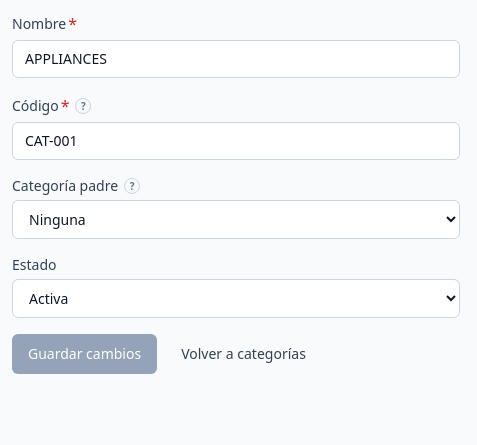
it: CategoryForm › edit: shows the stored code, is editable, and Save stays disabled until a field changes
This screenshot has width=477, height=445.
Expected: the button "Guardar cambios" is disabled, [12,334,157,374]
Step 1. Replace the text in the field labelled "Código" with "ELECTRO" → (236,141), box [12,122,460,160]
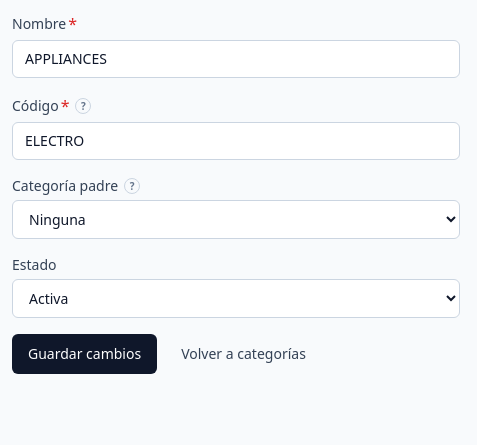
Now the button "Guardar cambios" is enabled
Step 2. Click the button "Guardar cambios" → (85,354), box [12,334,157,374]
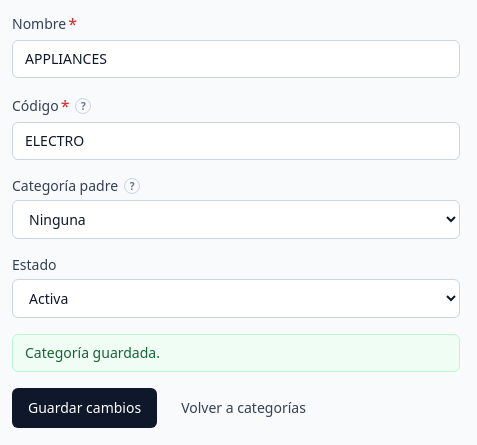
Now the text "Categoría guardada." is shown, box [25,343,160,362]
